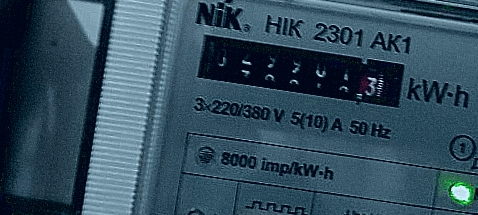0: (312, 53, 329, 79), (211, 44, 230, 67)
1: (337, 57, 353, 82)
2: (237, 45, 256, 66)
3: (362, 72, 378, 96)
9: (287, 51, 304, 75), (263, 47, 278, 71)
screen: (182, 21, 416, 118)
